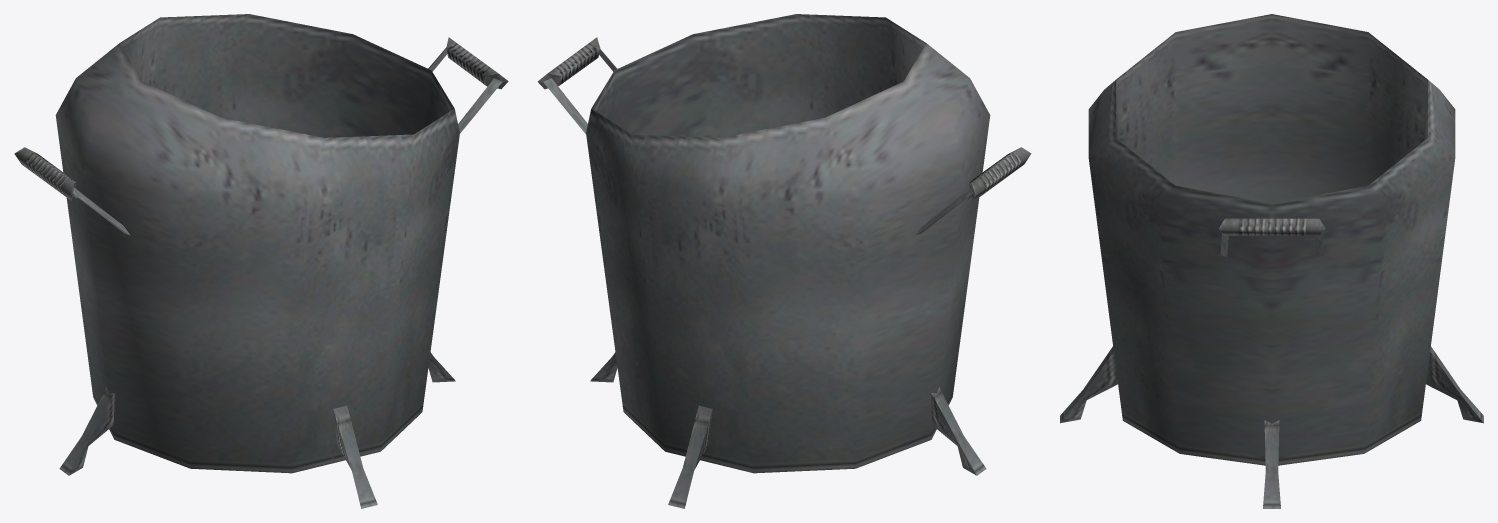
File: eqp_cook_pot_lg_l0.fbx
3 views of the same model, side by side, from view 1: azimuth 30°, elevation 25°; view 2: azimuth 150°, elevation 25°; view 3: azimuth 270°, elevation 25° (orthographic). The views are drawn at different scales.
Parts seen in each view (by area): view 1: mesh_node; view 2: mesh_node; view 3: mesh_node.
Part boxes in pixels (x1,y1,x2,y2): mesh_node: (14, 14, 508, 508); mesh_node: (537, 14, 1031, 508); mesh_node: (1060, 14, 1483, 508).
Bounding box in the file's own units: 0.3446 × 0.2793 × 0.3045.
Materials: 1 (1 with a texture image).
